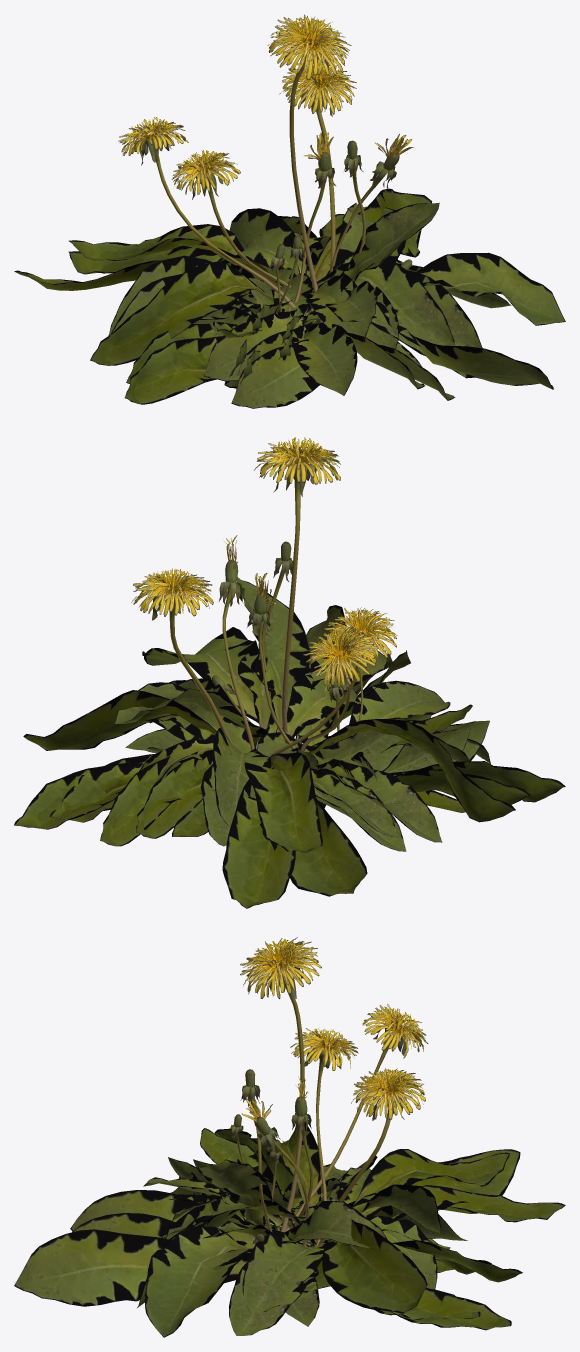
File: dandelion_01.glb
The picture shows the model from 3 angles, top to bottom: view 1: azimuth 30°, elevation 25°; view 2: azimuth 150°, elevation 25°; view 3: azimuth 270°, elevation 25°; orthographic projection. The views are drawn at different scales.
Parts seen in each view (by area): view 1: dandelion_01_a_LOD0, dandelion_01_e_LOD0, dandelion_01_b_LOD0, dandelion_01_c_LOD0, dandelion_01_d_LOD0; view 2: dandelion_01_a_LOD0, dandelion_01_b_LOD0, dandelion_01_e_LOD0, dandelion_01_c_LOD0, dandelion_01_d_LOD0; view 3: dandelion_01_a_LOD0, dandelion_01_e_LOD0, dandelion_01_b_LOD0, dandelion_01_c_LOD0, dandelion_01_d_LOD0.
Part boxes in pixels (x1=…): dandelion_01_a_LOD0: x1=68, y1=14, x2=565, y2=408; dandelion_01_e_LOD0: x1=69, y1=188, x2=455, y2=389; dandelion_01_b_LOD0: x1=14, y1=61, x2=511, y2=400; dandelion_01_c_LOD0: x1=212, y1=132, x2=357, y2=395; dandelion_01_d_LOD0: x1=193, y1=244, x2=421, y2=388; dandelion_01_a_LOD0: x1=49, y1=437, x2=565, y2=908; dandelion_01_b_LOD0: x1=14, y1=535, x2=529, y2=896; dandelion_01_e_LOD0: x1=23, y1=650, x2=515, y2=853; dandelion_01_c_LOD0: x1=125, y1=573, x2=470, y2=836; dandelion_01_d_LOD0: x1=147, y1=675, x2=489, y2=808; dandelion_01_a_LOD0: x1=14, y1=937, x2=565, y2=1337; dandelion_01_e_LOD0: x1=70, y1=1123, x2=509, y2=1313; dandelion_01_b_LOD0: x1=72, y1=1028, x2=522, y2=1335; dandelion_01_c_LOD0: x1=168, y1=1076, x2=467, y2=1326; dandelion_01_d_LOD0: x1=168, y1=1128, x2=440, y2=1292.
Size of the model in its own units: 0.2204 by 0.1642 by 0.2577.
1 material, 1 textured.
